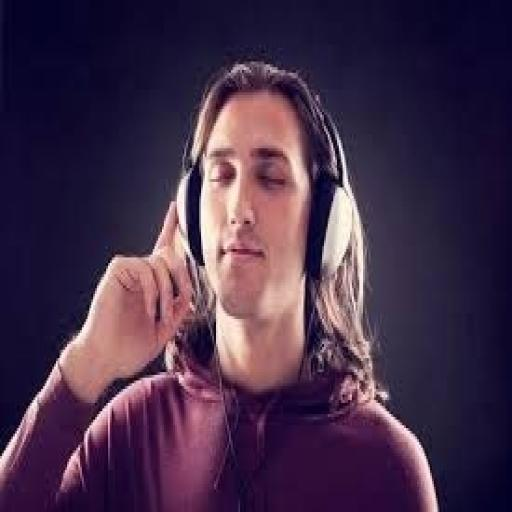listening_to_music: (0, 56, 441, 509)
